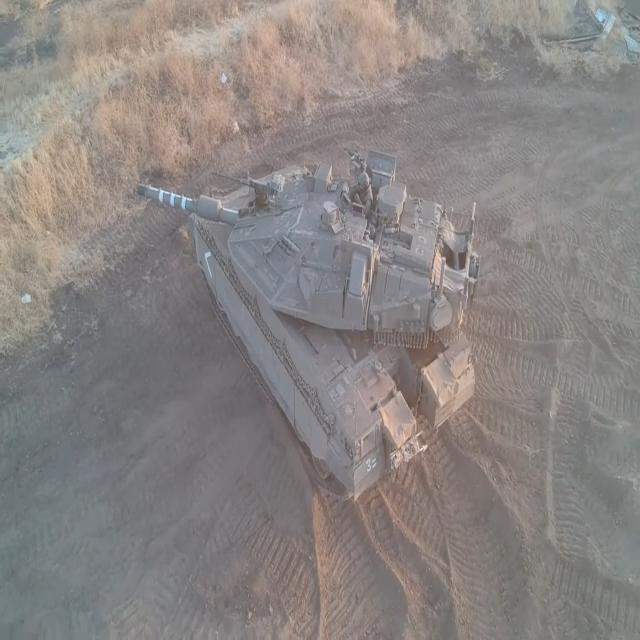tank: (121, 146, 531, 510)
